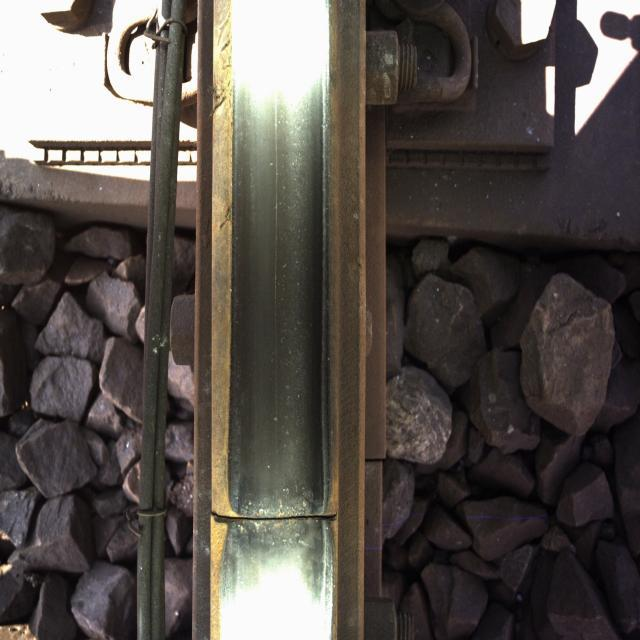spalling: (192, 455, 350, 564)
